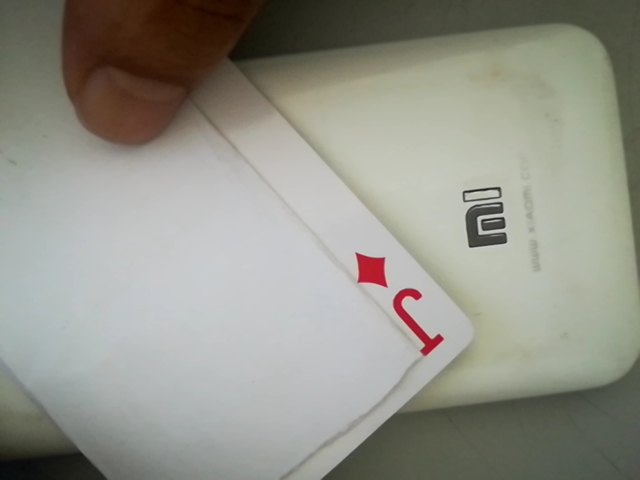fk j: (347, 244, 457, 363)
